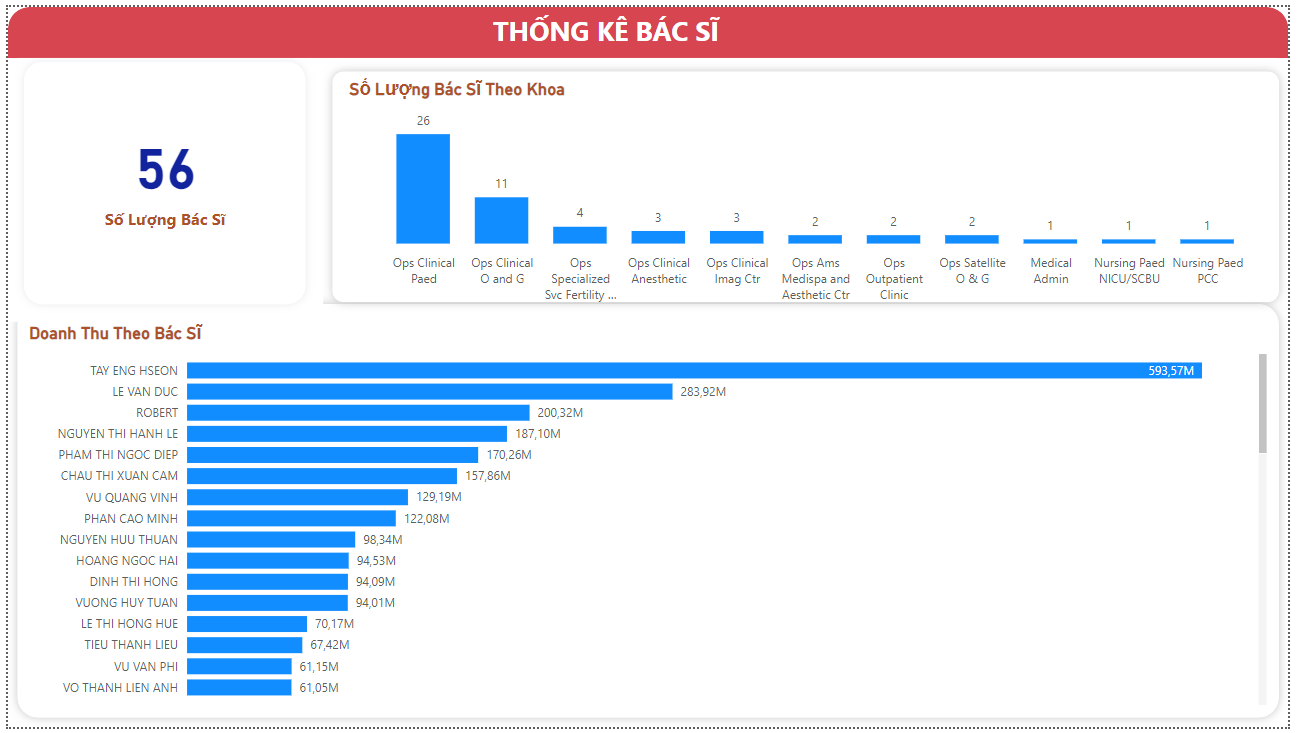

The dashboard page shown, as its layout file describes it:
{"tool":"powerbi","page":{"name":"Doctor_Dashboard","canvas":[1280,720],"ordinal":2},"visuals":[{"type":"shape","box":[0,287.4,1280.3,432.4],"z":0},{"type":"cardVisual","fields":{"Data":["CountNonNull(DimDoctor.Doctor_ID)"]},"box":[0,39.2,314.8,275.6],"z":1000},{"type":"shape","box":[0,0,1280.3,50.9],"z":2000},{"type":"textbox","box":[479.4,0,360.6,57.5],"z":3000},{"type":"shape","box":[314.8,54.9,965.4,249.5],"z":4000},{"type":"columnChart","title":"Số Lượng Bác Sĩ Theo Khoa","fields":{"Y":["CountNonNull(DimDoctor.Doctor_ID)"],"Category":["DimDepartment.Department_name"]},"box":[335.7,71.9,927.5,232.5],"z":5000},{"type":"barChart","title":"Doanh Thu Theo Bác Sĩ","fields":{"Category":["DimDoctor.Doctor_name"],"Y":["Sum(FactBill.Gross_sale)"]},"box":[15.7,314.8,1247.6,388],"z":6000}]}

Visuals, with their boxes in screenshot pixels (x1, y1, x2, y2), scaled from the page's 1280x720 canvas onto the 1301x733 screenshot:
shape: [0,293,1300,732]
cardVisual - CountNonNull(DimDoctor.Doctor_ID): [0,40,320,320]
shape: [0,0,1300,52]
textbox: [487,0,854,59]
shape: [320,56,1300,310]
"Số Lượng Bác Sĩ Theo Khoa" columnChart: [341,73,1284,310]
"Doanh Thu Theo Bác Sĩ" barChart: [16,320,1284,715]
